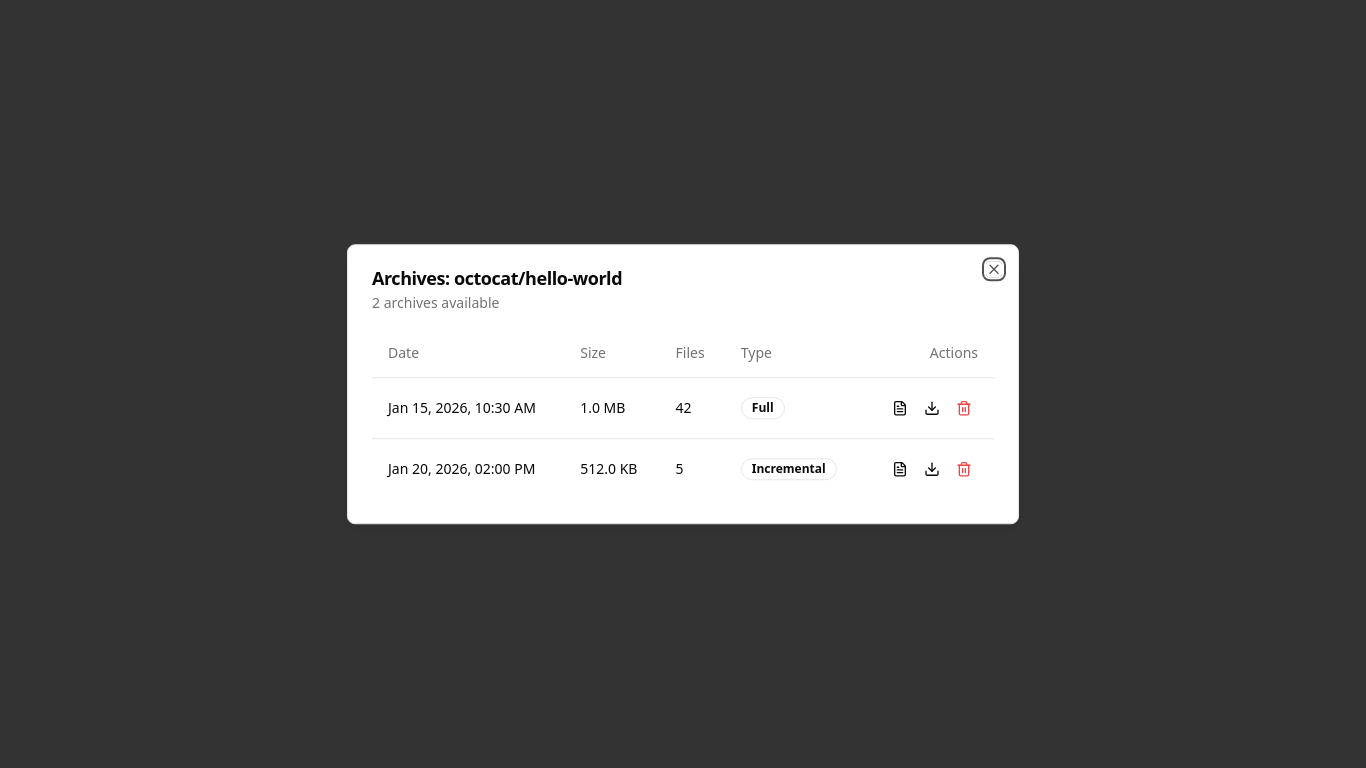
Test case: ArchiveViewer › cancels delete confirmation
The width and height of the screenshot is (1366, 768).
Check: the text "1.0 MB" is shown, box [564,377,660,438]
Click the button named "Delete archive" in the row of "Jan 15, 2026, 10:30 AM".
click(964, 408)  # box [950,394,978,422]
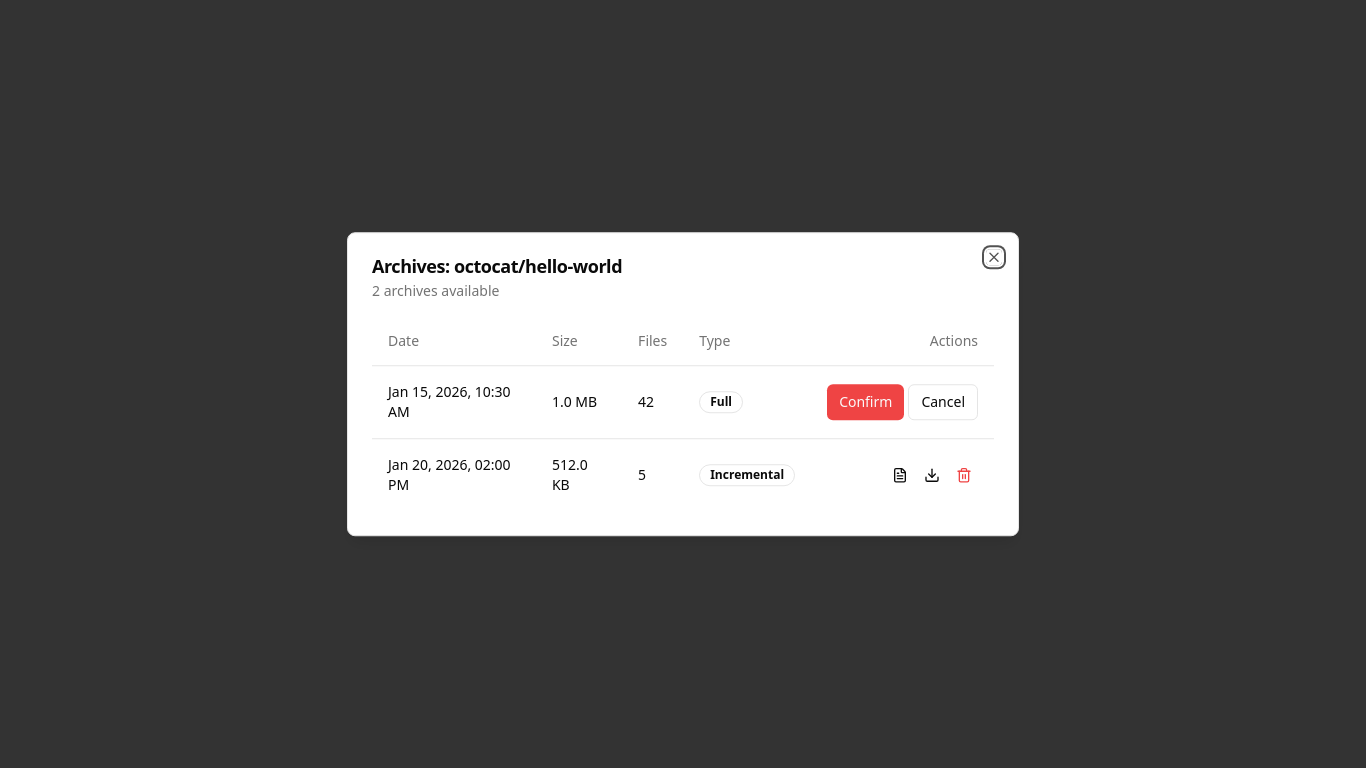
Check: the button "Confirm" is shown, box [827,384,904,420]
Click the button "Cancel".
click(943, 402)  # box [908,384,978,420]
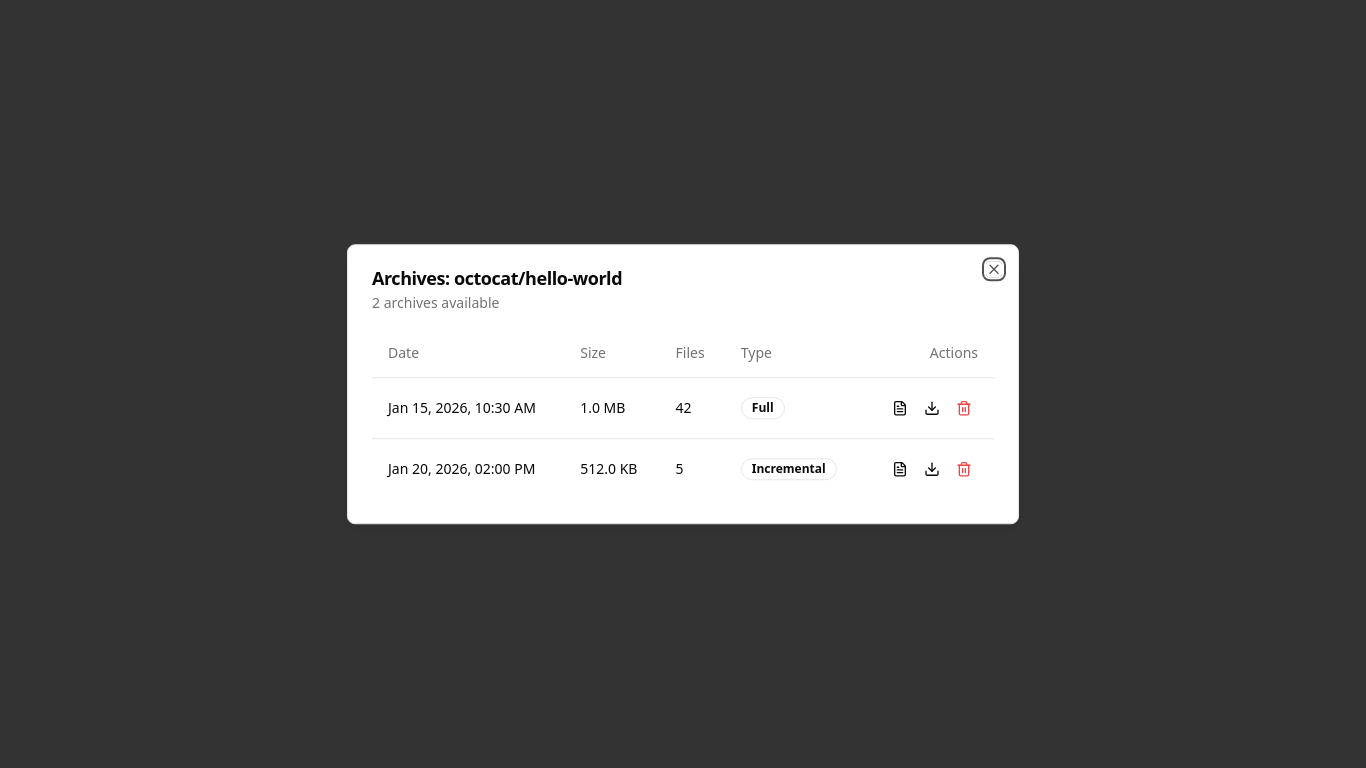
Check: the button "Confirm" is gone
